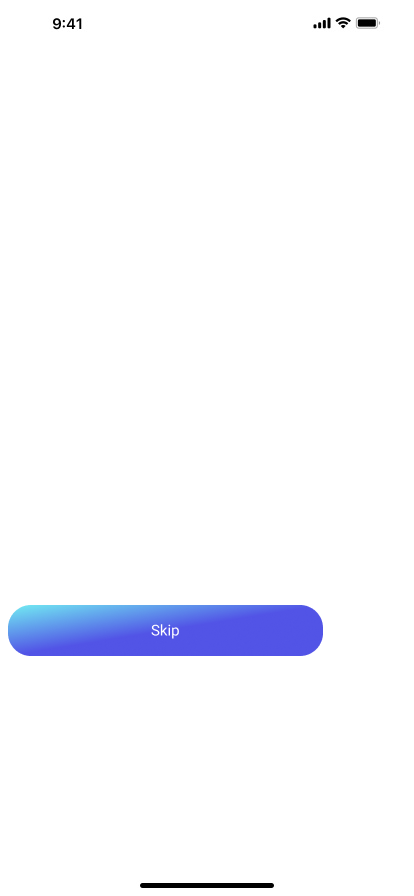Buttons: (8, 605, 323, 656)
Home Indicator: (0, 862, 414, 896)
Status Bar: (0, 0, 414, 44)
